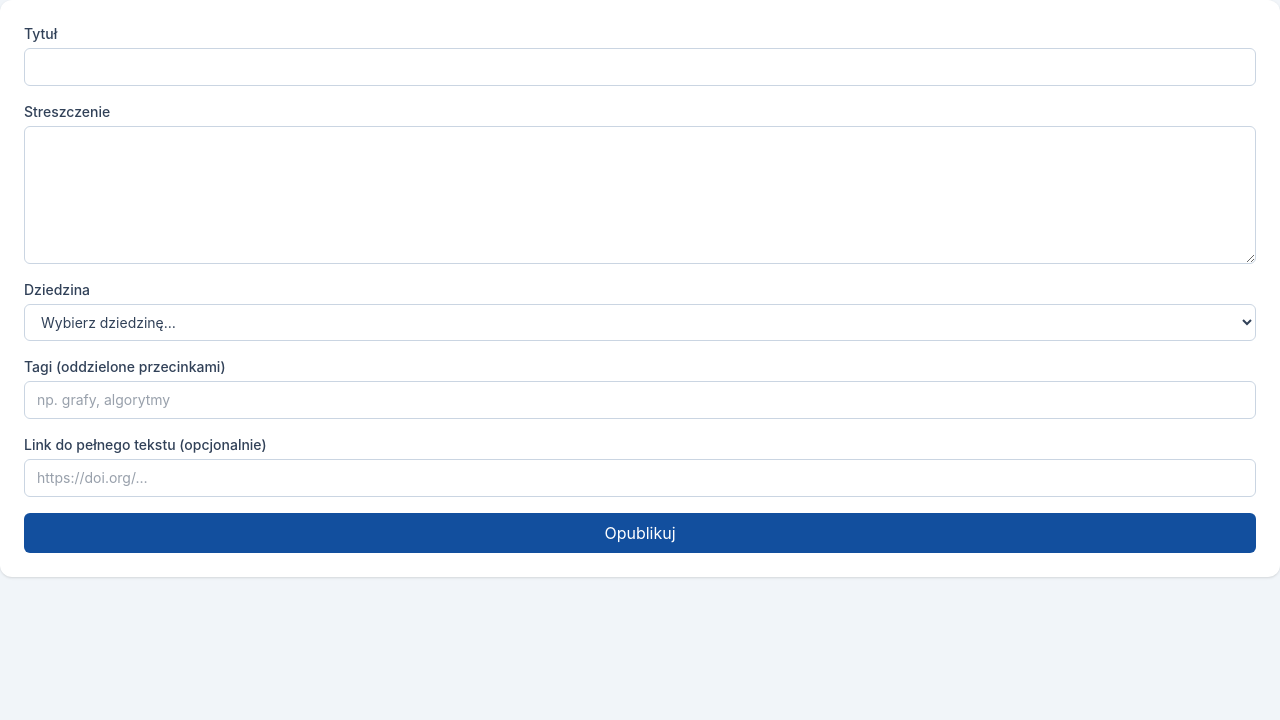
Test: ArticleForm › pokazuje komunikat, gdy serwer odrzuci artykuł
Expected: the button "Opublikuj" is shown, [24,513,1256,553]
Type "Nowe odkrycie" into the field labelled "Tytuł". click: {"x": 640, "y": 67}
box: [24,48,1256,86]
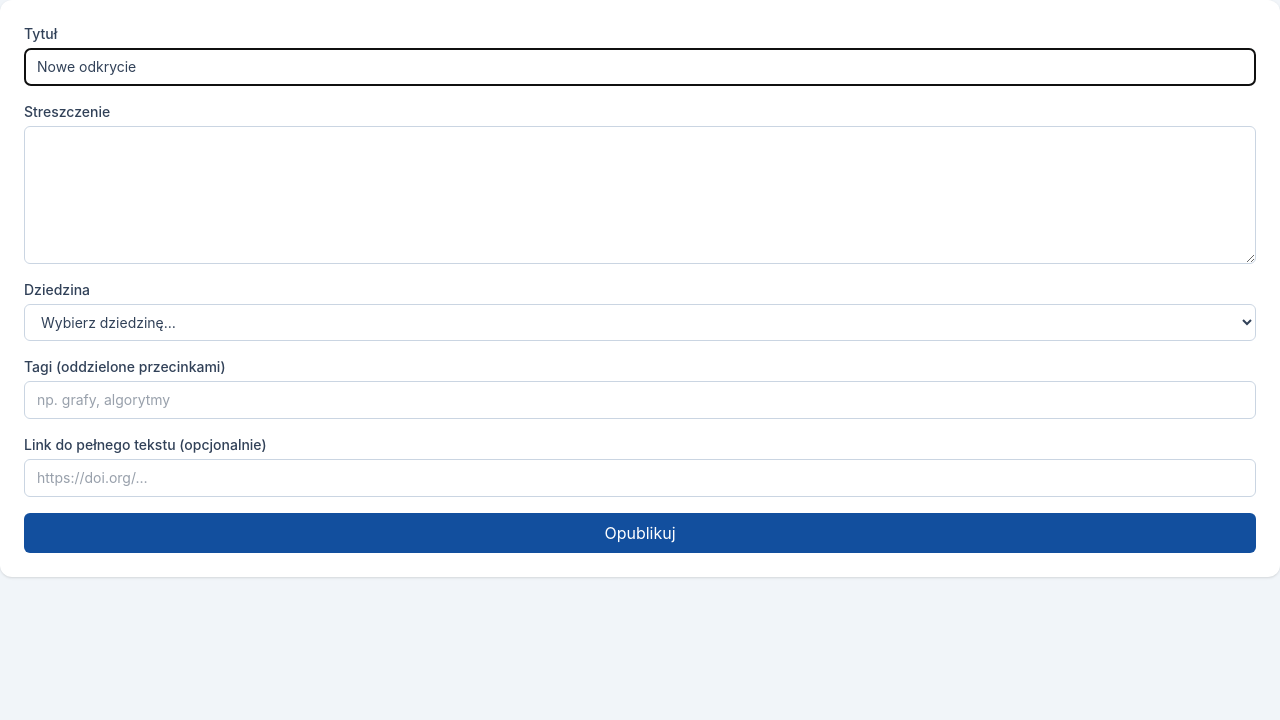
Type "Streszczenie liczące więcej niż dwadzieścia znaków." into the text box labelled "Streszczenie". click: {"x": 640, "y": 195}
box: [24,126,1256,264]
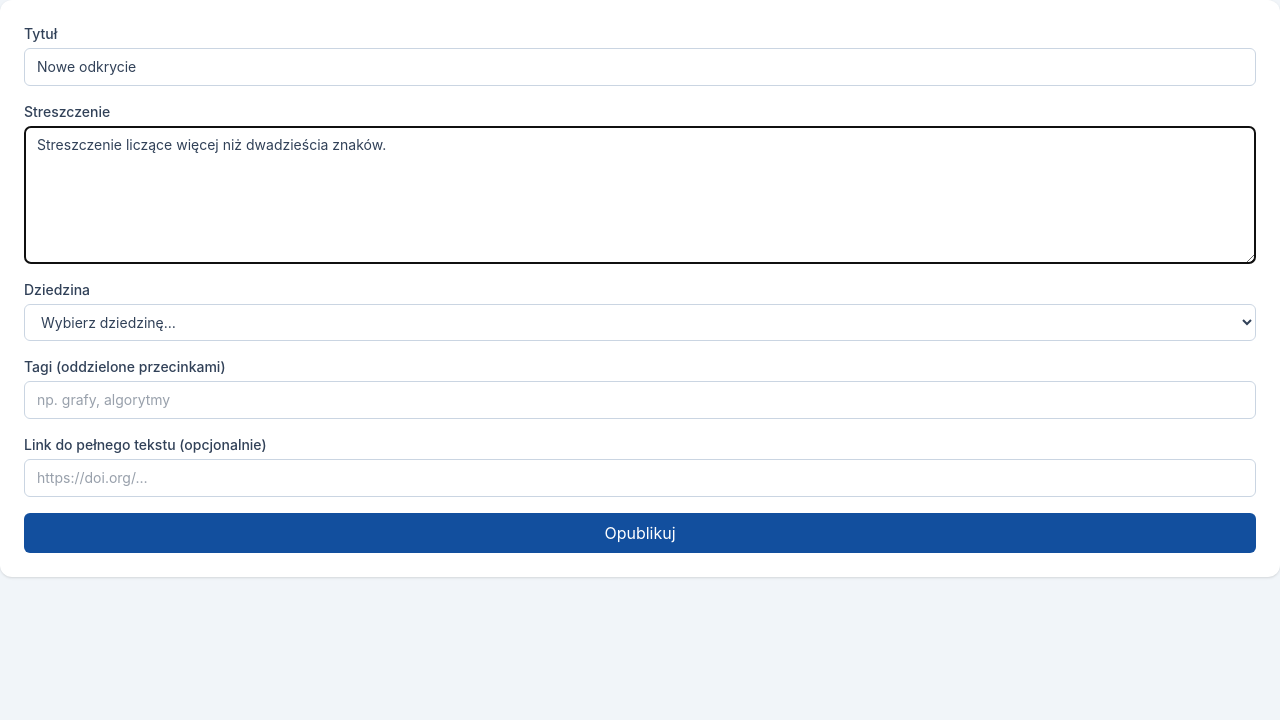
Select "Fizyka" in the dropdown labelled "Dziedzina". click: {"x": 640, "y": 322}
box: [24,304,1256,341]
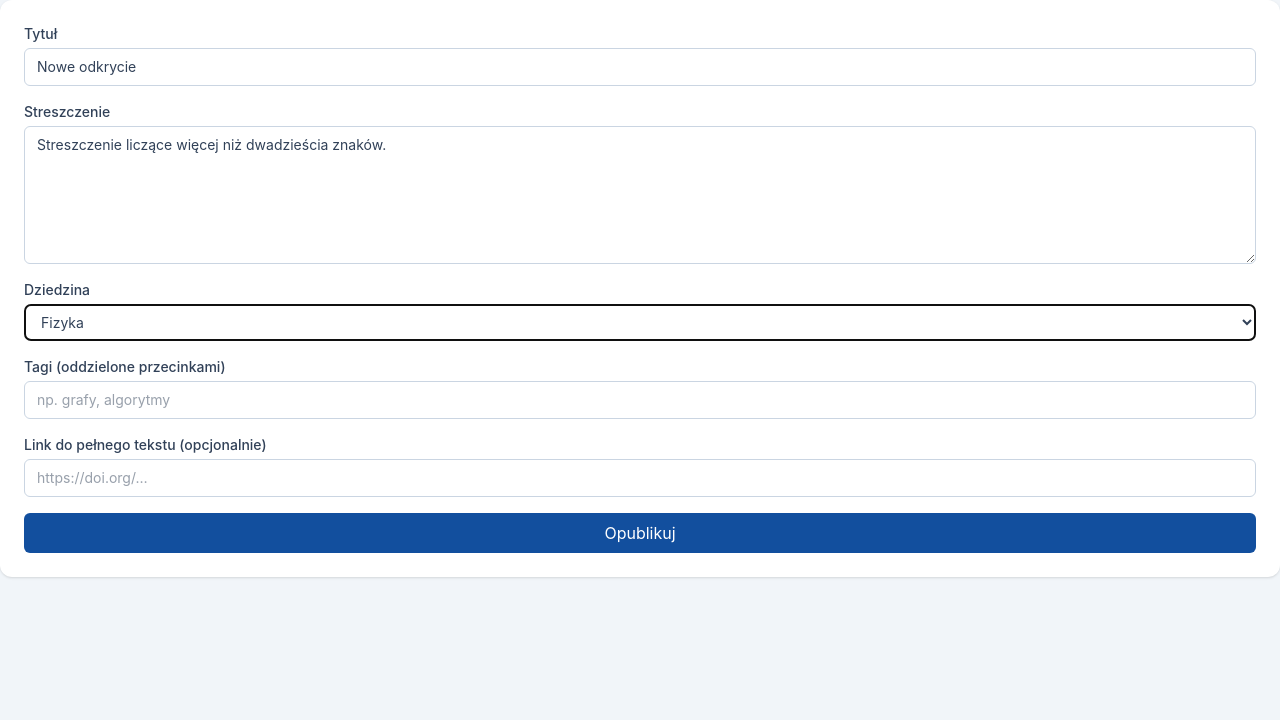
Type "AI, ml" into the field labelled "Tagi (oddzielone przecinkami)". click: {"x": 640, "y": 400}
box: [24,381,1256,419]
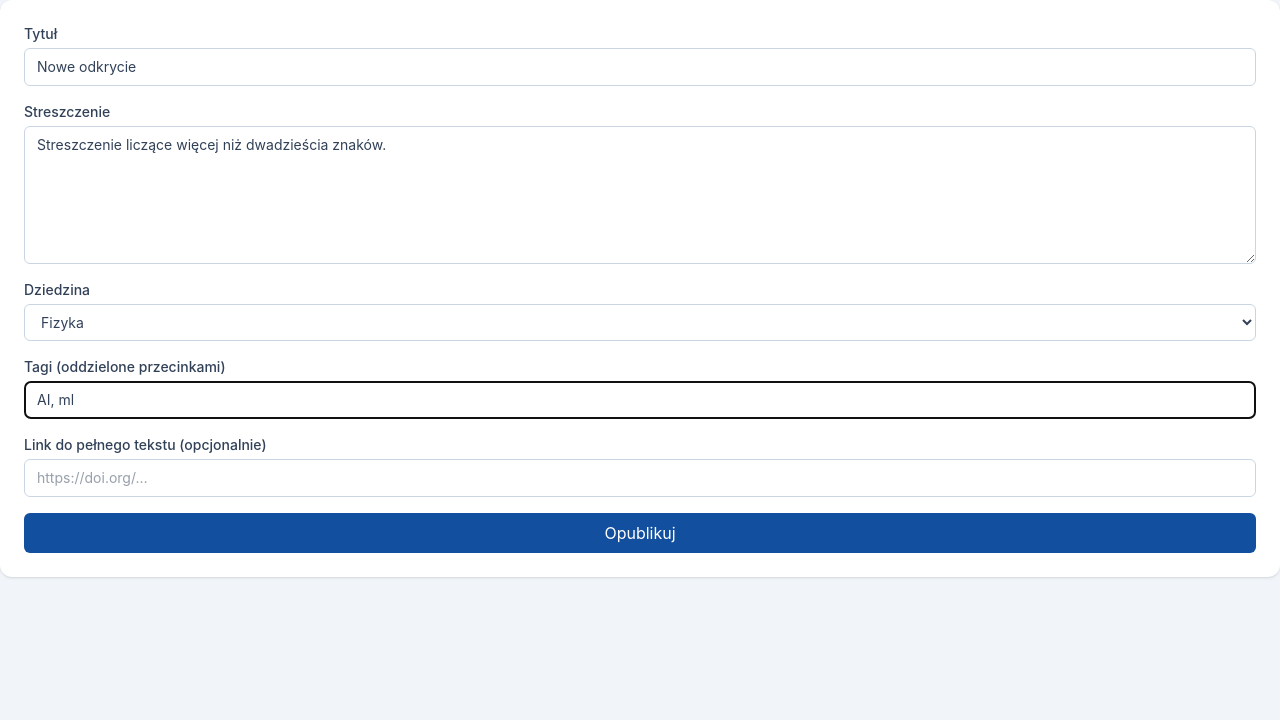
Type "https://example.com/praca.pdf" into the field labelled "Link do pełnego tekstu (opcjonalnie)". click: {"x": 640, "y": 478}
box: [24,459,1256,497]
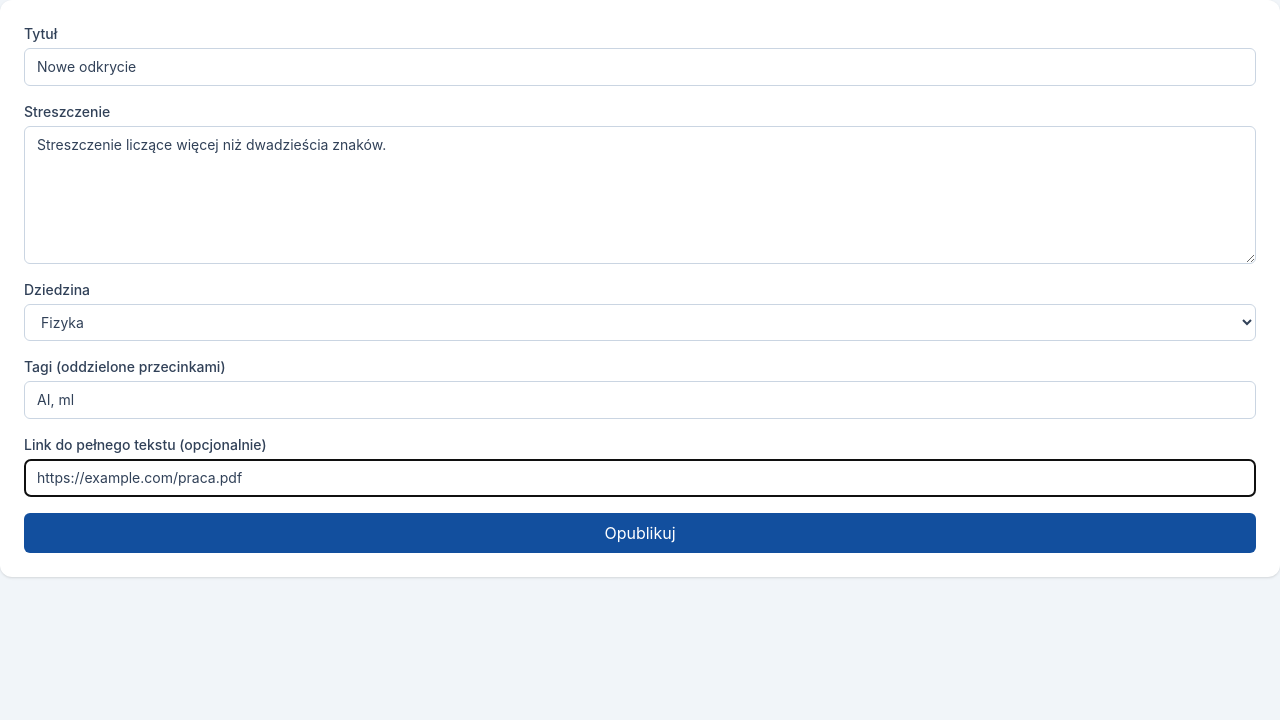
Click the button "Opublikuj". click: {"x": 640, "y": 533}
box: [24,513,1256,553]
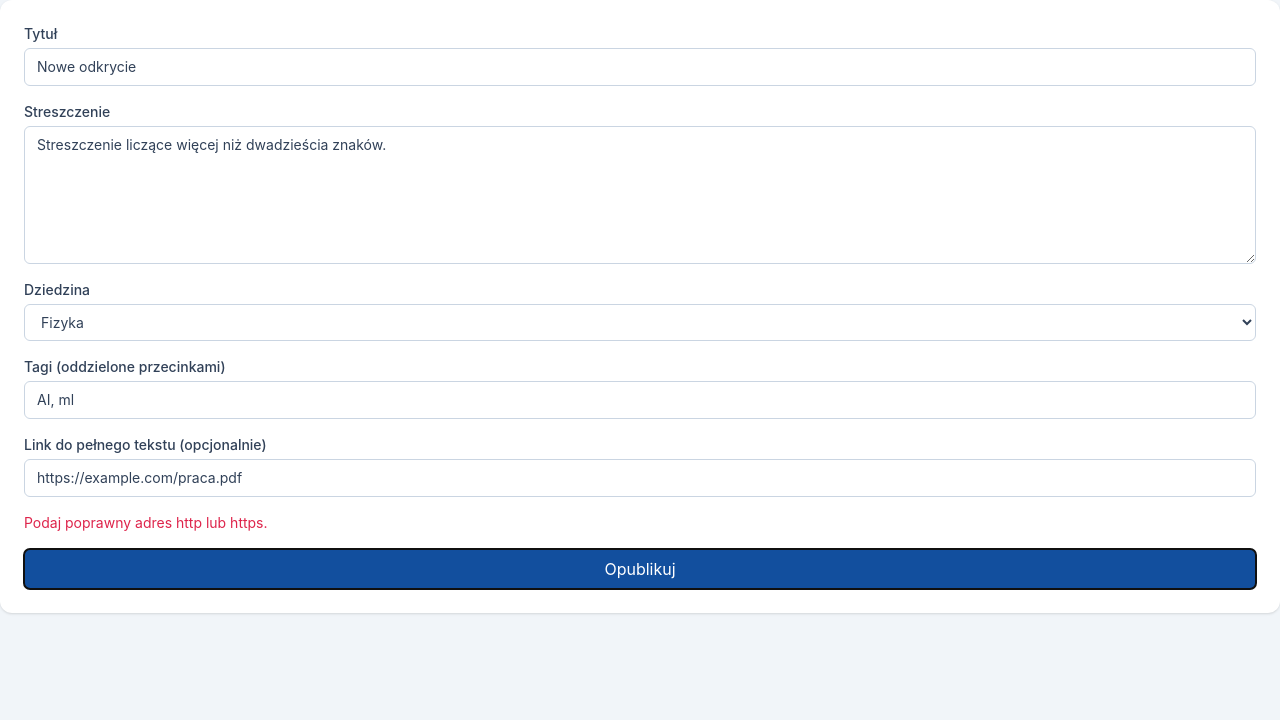
Expected: the message reads "Podaj poprawny adres http lub https.", [24,514,268,531]
